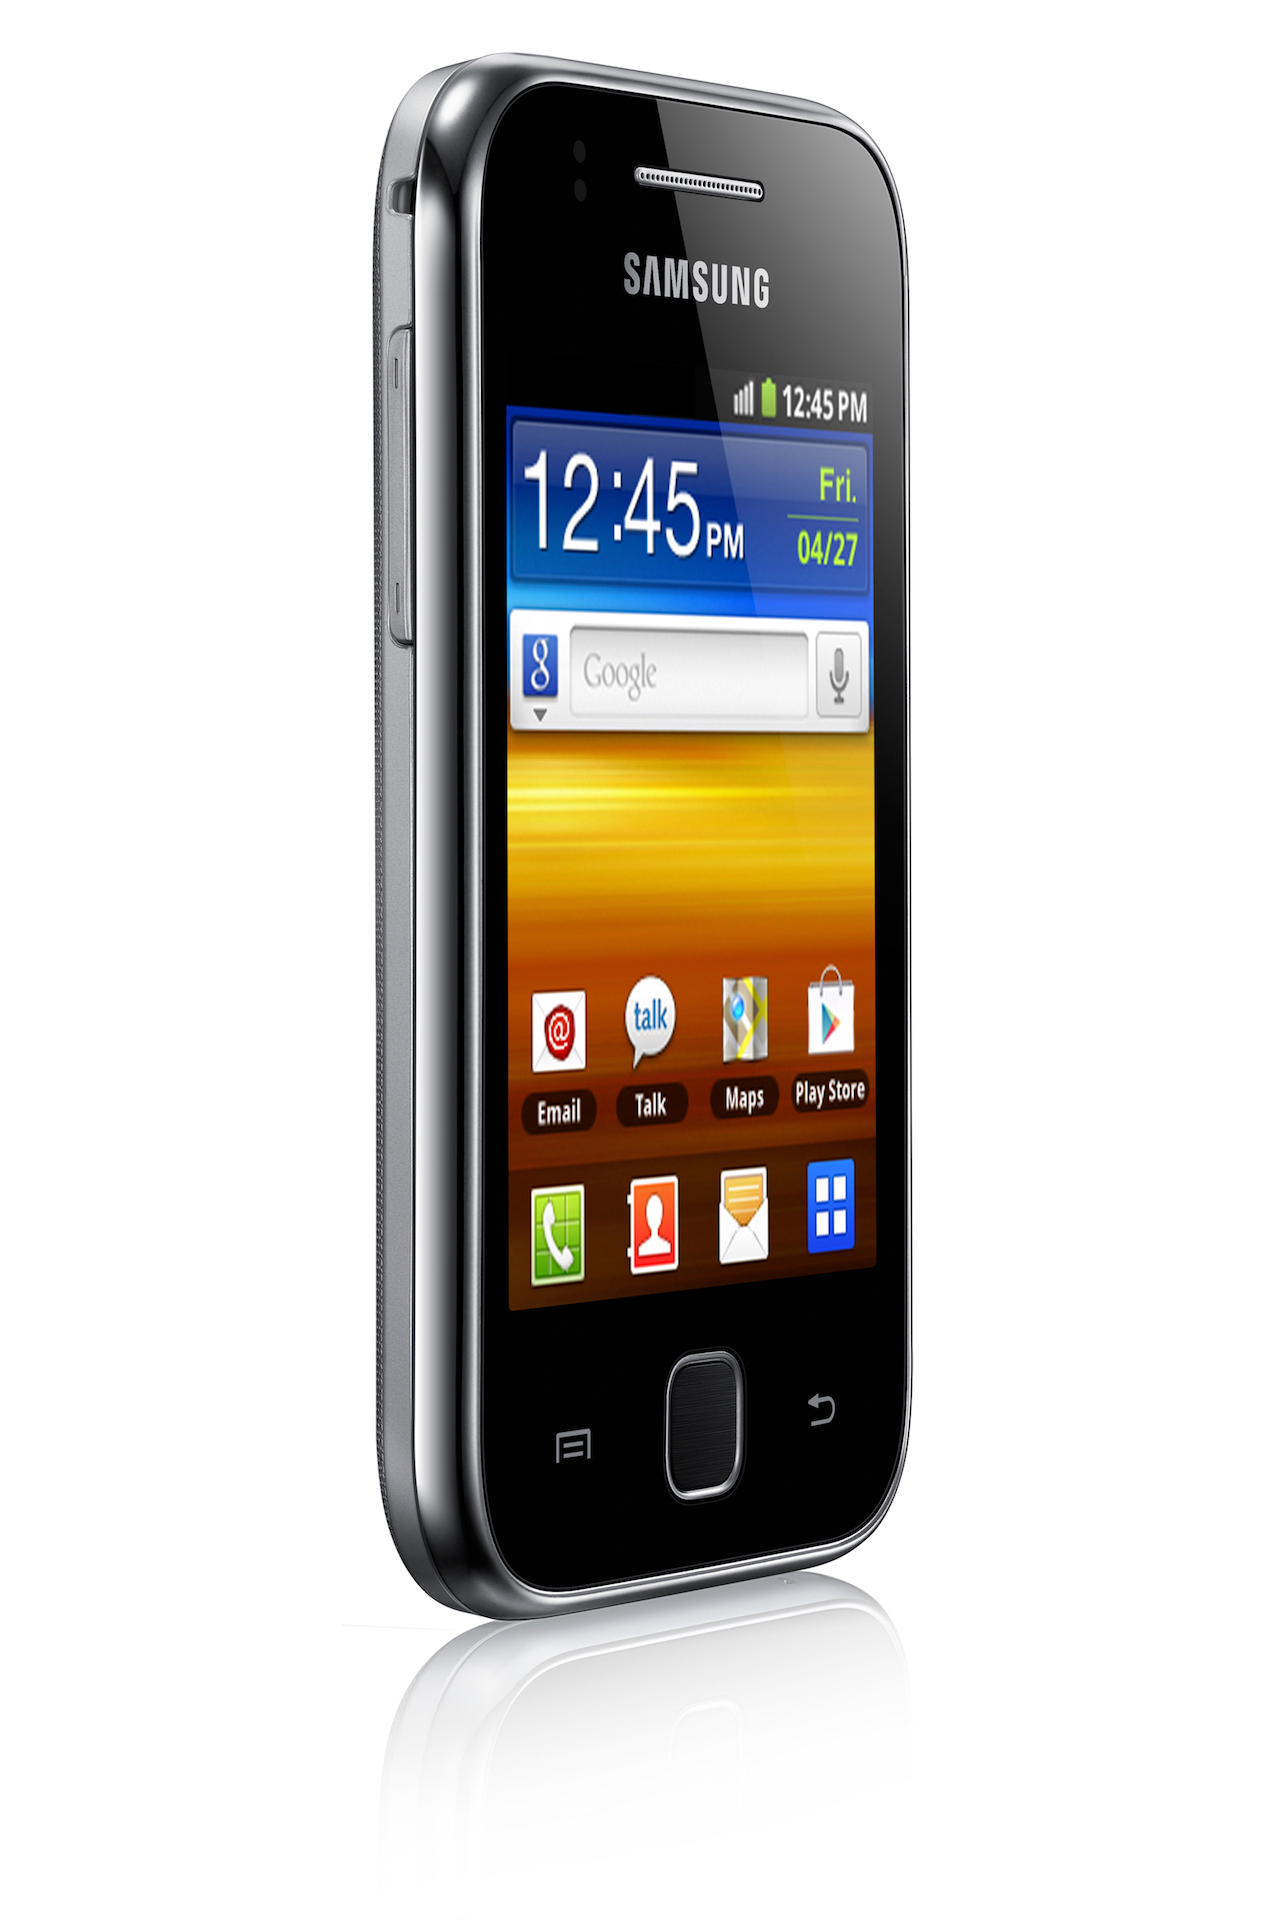smartphone: (366, 51, 917, 1629)
